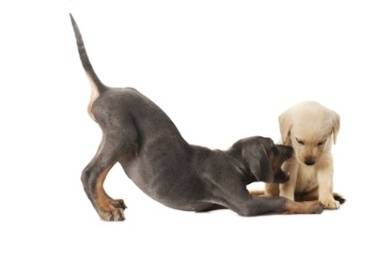tail: (68, 10, 114, 96)
